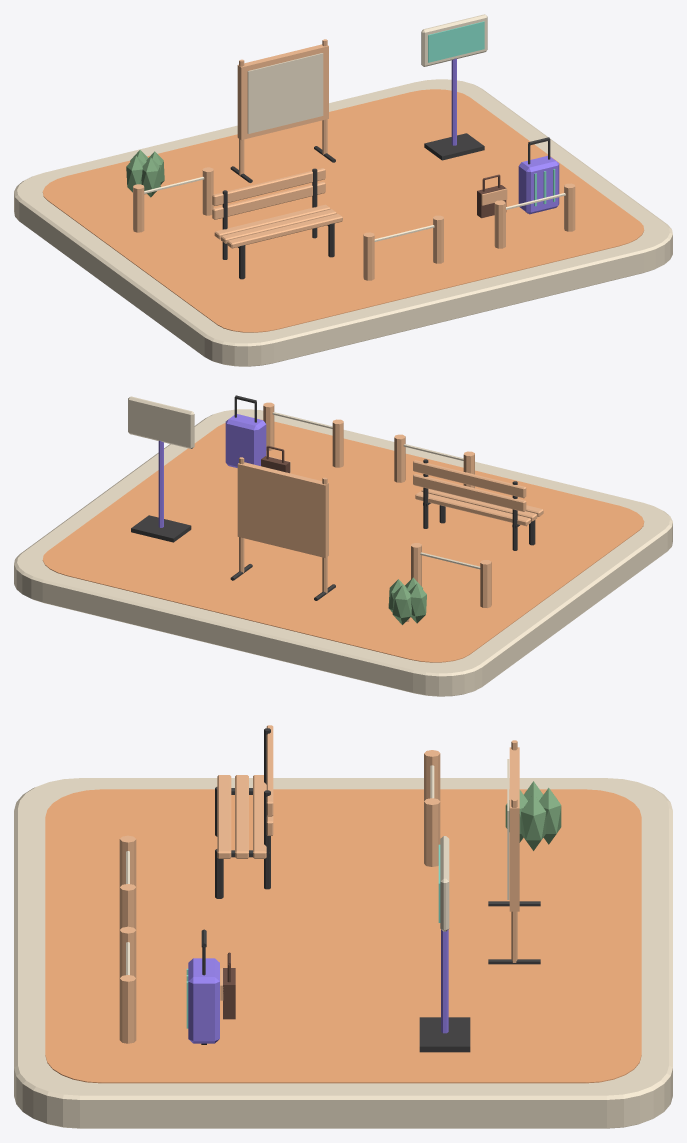
File: room.fbx
The picture shows the model from 3 angles, top to bottom: view 1: azimuth 30°, elevation 25°; view 2: azimuth 150°, elevation 25°; view 3: azimuth 270°, elevation 25°; orthographic projection. The views are drawn at different scales.
Visible parts, largest first — view 1: COM-02 Floor Surface, COM-01 Rounded Base Direct, Art surface, Frame, Shell, Inset, Back slat, Back slat.001, Seat slat, Sign panel, Foot.002, Bag (+9 smaller); view 2: COM-02 Floor Surface, COM-01 Rounded Base Direct, Frame, Sign panel, Shell, Back slat.001, Back slat, Seat slat.002, Foot.002, Seat slat.001, Leaf.001, Boundary post.002 (+6 smaller); view 3: COM-02 Floor Surface, COM-01 Rounded Base Direct, Shell, Foot.002, Frame, Seat slat, Boundary post.003, Seat slat.001, Boundary post.005, Leaf, Seat slat.002, Sign panel (+8 smaller).
Boxes of the visible parts, x1,y1,x2,y2 form: COM-02 Floor Surface: [42, 89, 644, 332]; COM-01 Rounded Base Direct: [14, 79, 672, 366]; Art surface: [247, 53, 323, 133]; Frame: [237, 44, 328, 139]; Shell: [518, 155, 559, 214]; Inset: [428, 21, 484, 62]; Back slat: [212, 181, 325, 219]; Back slat.001: [212, 168, 325, 205]; Seat slat: [227, 214, 342, 248]; Sign panel: [421, 14, 487, 66]; Foot.002: [424, 133, 484, 160]; Bag: [477, 174, 507, 218]; COM-02 Floor Surface: [42, 419, 644, 662]; COM-01 Rounded Base Direct: [14, 409, 672, 696]; Frame: [237, 462, 328, 557]; Sign panel: [128, 396, 194, 448]; Shell: [225, 414, 266, 467]; Back slat.001: [413, 460, 526, 498]; Back slat: [413, 474, 526, 511]; Seat slat.002: [415, 491, 530, 526]; Foot.002: [131, 515, 191, 542]; Seat slat.001: [421, 489, 537, 521]; Leaf.001: [392, 585, 411, 624]; Boundary post.002: [332, 419, 343, 467]; COM-02 Floor Surface: [45, 789, 641, 1083]; COM-01 Rounded Base Direct: [14, 778, 672, 1128]; Shell: [188, 958, 219, 1043]; Foot.002: [419, 1017, 470, 1052]; Frame: [509, 747, 519, 911]; Seat slat: [217, 775, 231, 858]; Boundary post.003: [119, 975, 136, 1043]; Seat slat.001: [235, 775, 248, 858]; Boundary post.005: [424, 798, 440, 866]; Leaf: [521, 794, 546, 850]; Seat slat.002: [253, 775, 266, 858]; Sign panel: [440, 836, 449, 931].
Size of the model in its own units: 600 by 187 by 520.
